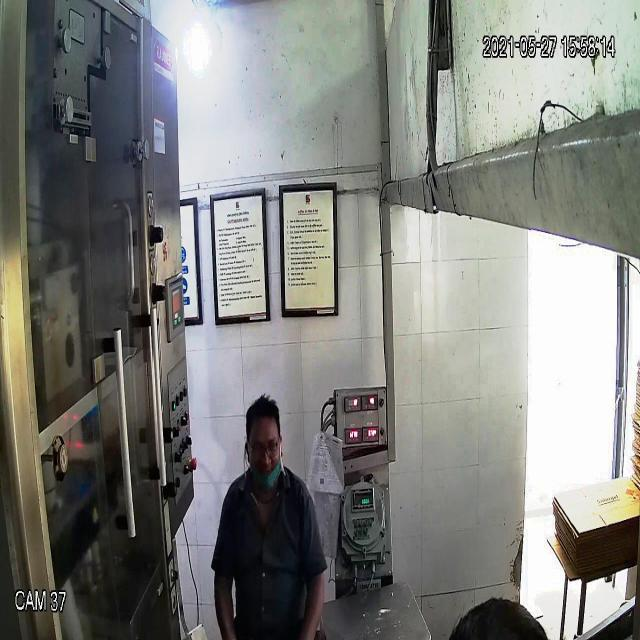glasses: (244, 431, 284, 461)
